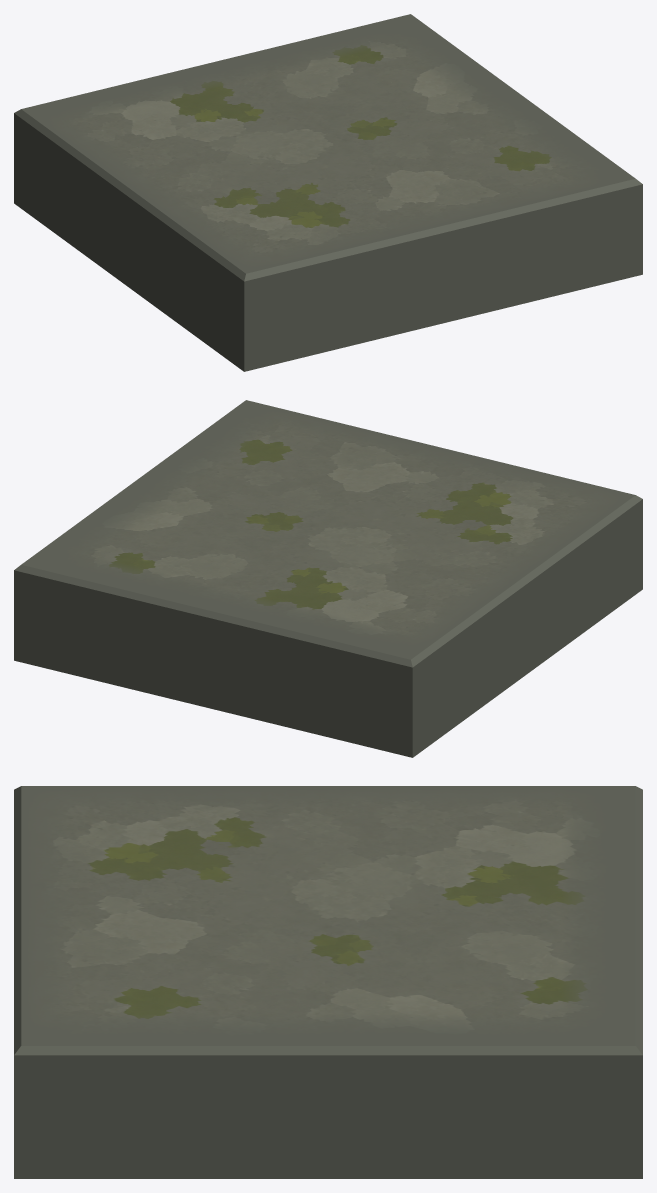
Rendered from Floor01.fbx.
3 views of the same model, one above another, from view 1: azimuth 30°, elevation 25°; view 2: azimuth 150°, elevation 25°; view 3: azimuth 270°, elevation 25° (orthographic). The views are drawn at different scales.
Parts seen in each view (by area): view 1: SM_Floor_01_NoCrack; view 2: SM_Floor_01_NoCrack; view 3: SM_Floor_01_NoCrack.
Part boxes in pixels (left/top/right/bottom): SM_Floor_01_NoCrack: left=14, top=14, right=642, bottom=371; SM_Floor_01_NoCrack: left=14, top=400, right=642, bottom=757; SM_Floor_01_NoCrack: left=14, top=786, right=642, bottom=1178.
Bounding box in the file's own units: 105 × 23.94 × 105.
Materials: 1 (1 with a texture image).
